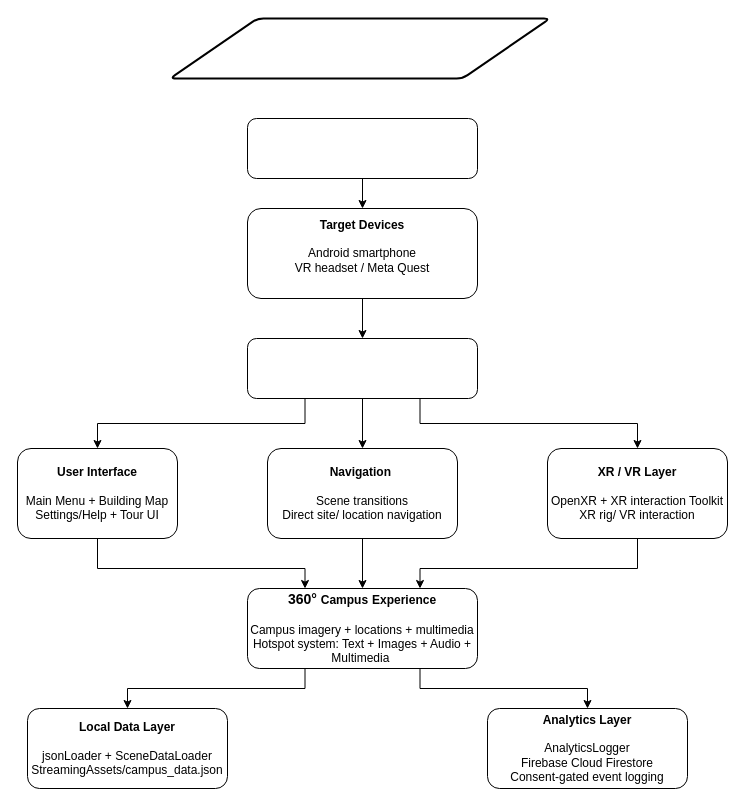
Image size: 745x806. Some labels were removed from this diagram. The box of each missing label's shape, as (x1, y1, x2, y2) in pixels:
CampusXR Explorer - Current System Architecture: (168, 17, 550, 79)
Unity 6 Application Scenes, C# scripts, UI and runtime: (246, 338, 478, 398)
Visitor / Prospective Student: (246, 118, 478, 178)
